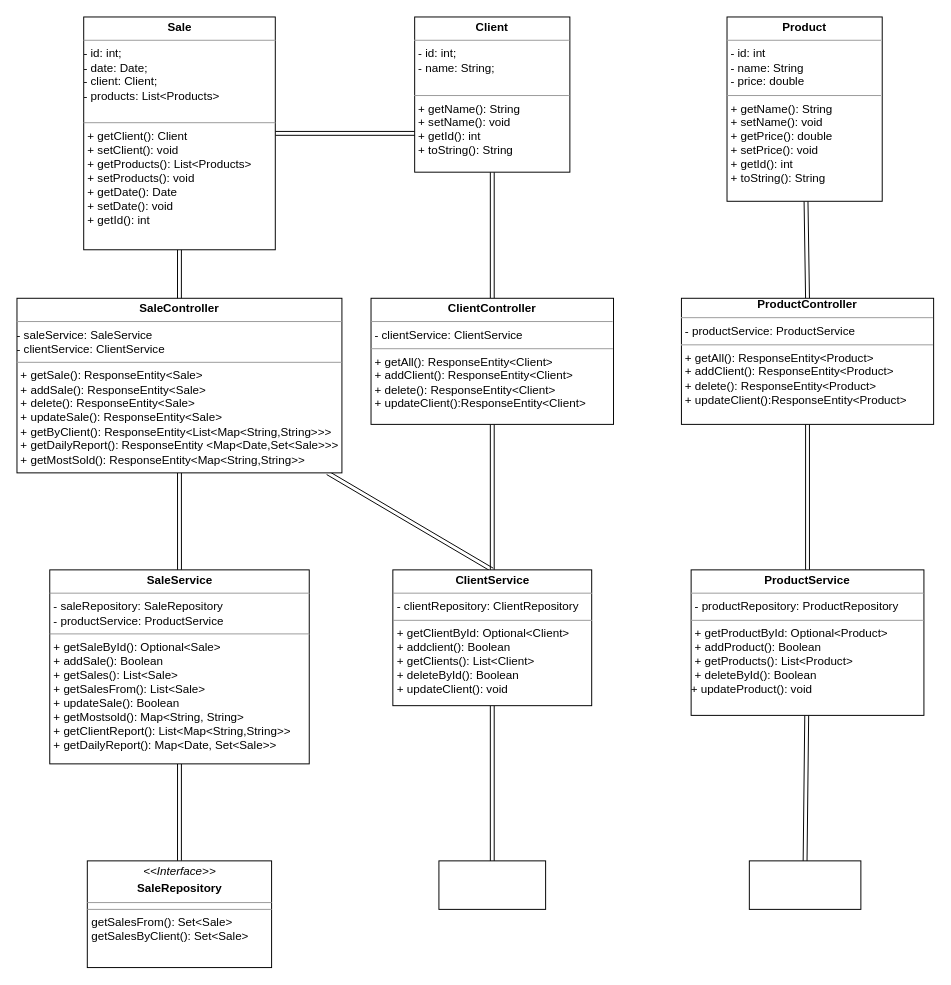
Some shapes in this 951 by 985 pixel diagram are drawn without their labels. The shapes that lost their labels are listed below. From the top down, each one's centre as x and y in pixels, then its label:
[492,884]: <<Interface>> ClientRepository
[804,884]: <<Interface>> ProductRepository
